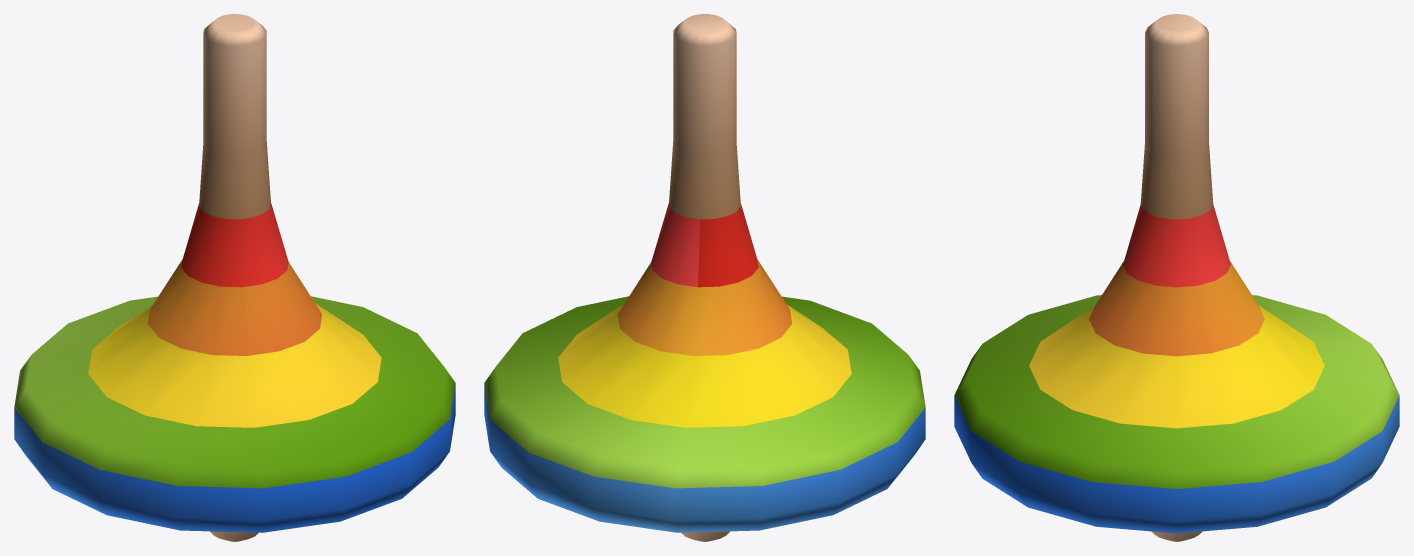
File: SpinningTop_colored.fbx
3 views of the same model, side by side, from view 1: azimuth 30°, elevation 25°; view 2: azimuth 150°, elevation 25°; view 3: azimuth 270°, elevation 25° (orthographic).
Parts seen in each view (by area): view 1: SpinningTop_colored; view 2: SpinningTop_colored; view 3: SpinningTop_colored.
Part boxes in pixels (x1,y1,x2,y2): SpinningTop_colored: (14, 14, 455, 541); SpinningTop_colored: (484, 14, 925, 541); SpinningTop_colored: (954, 14, 1399, 541).
Size of the model in its own units: 80.96 by 104 by 80.96.
